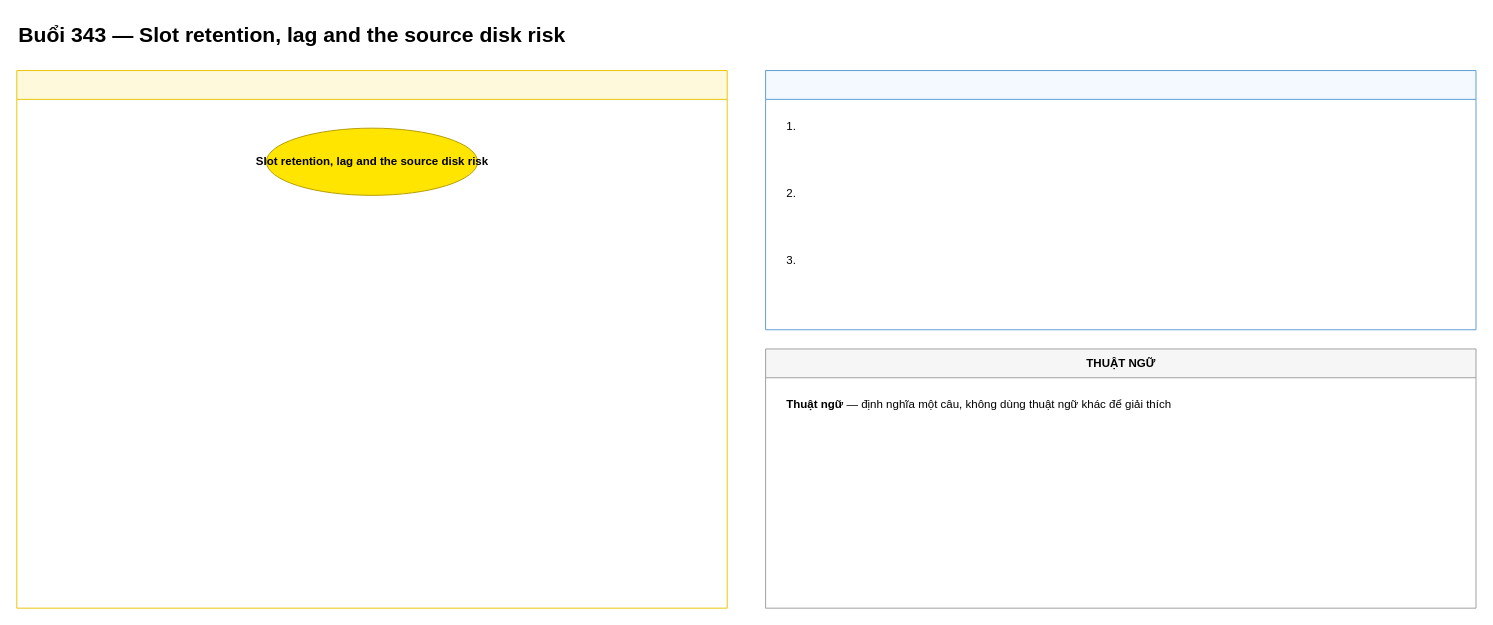
Some shapes in this 1493 by 625 pixel diagram are drawn without their labels. The box of each missing label's shape, as (x1, y1, x2, y2) in pixels:
KEY TAKEAWAY — ba điều phải nhớ: (765, 70, 1476, 330)
MINDMAP: (16, 70, 727, 608)
